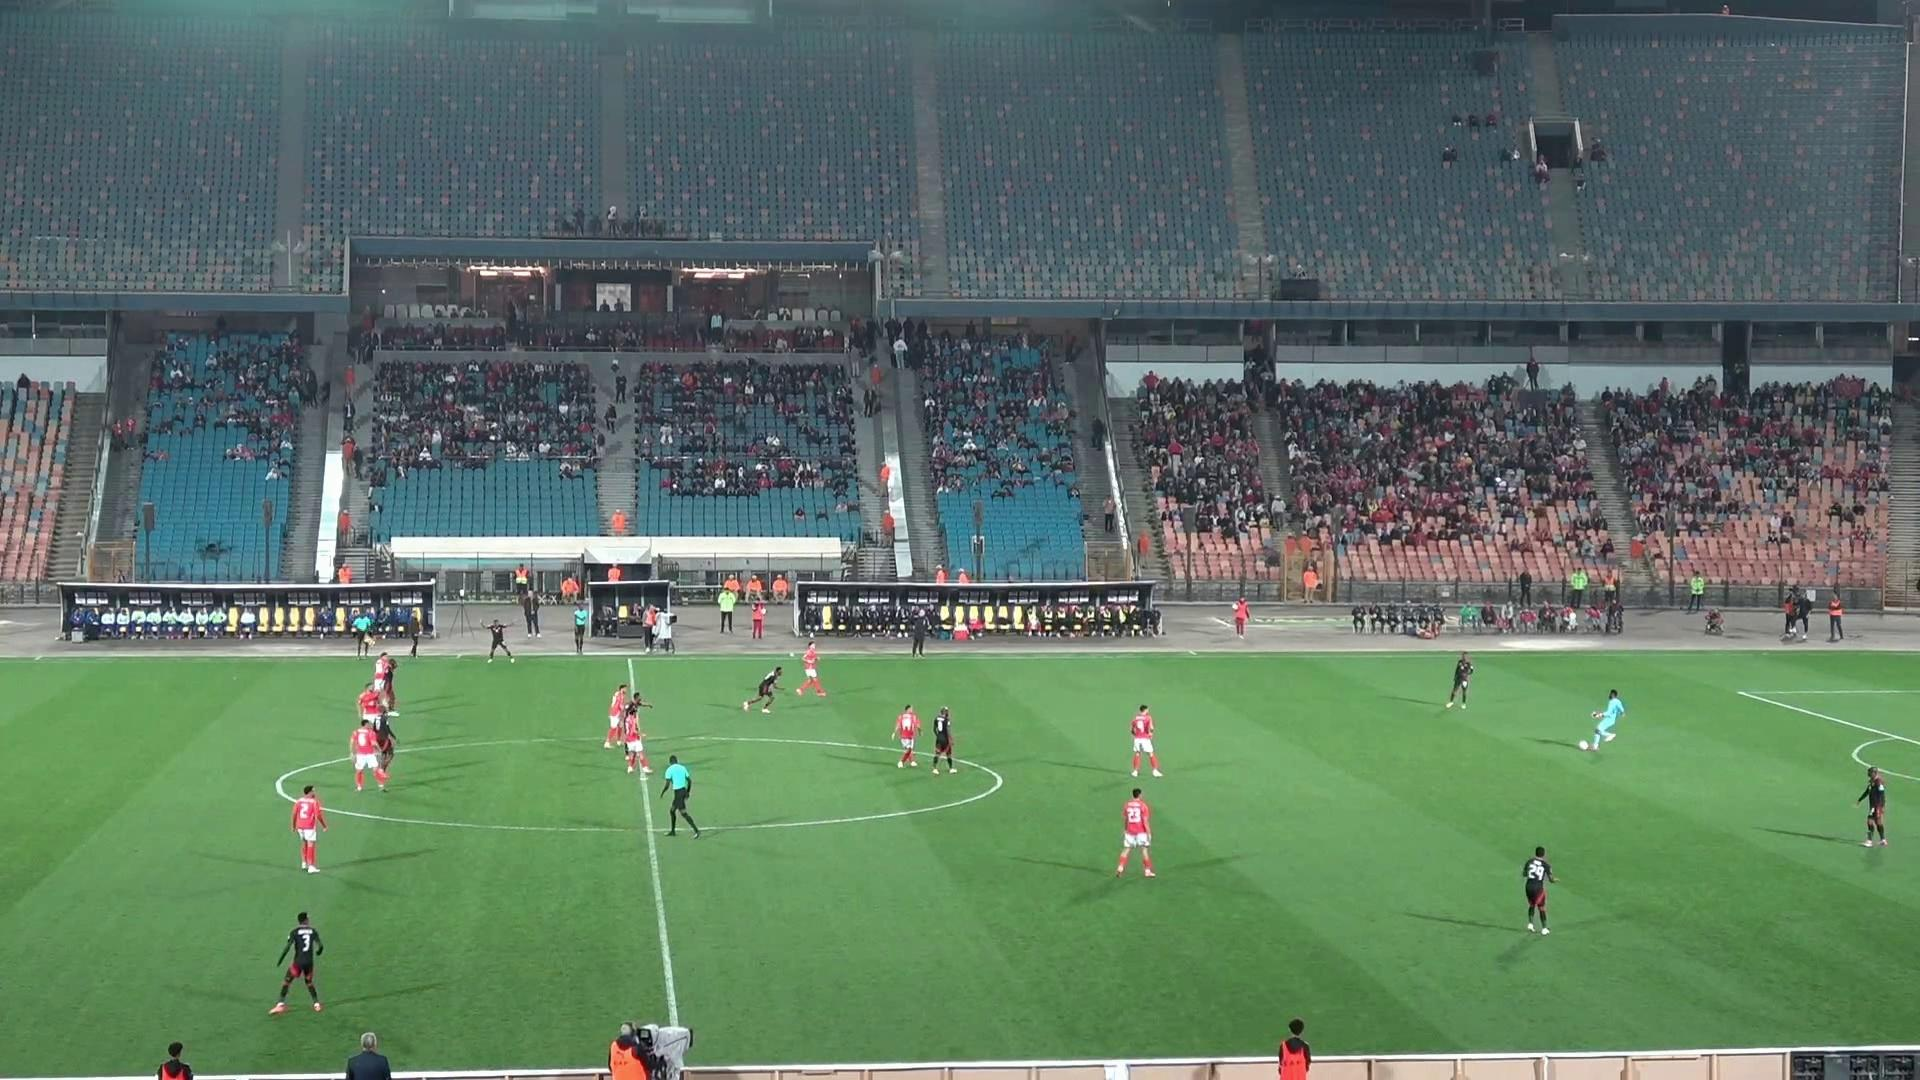Ball: (1577, 740, 1594, 750)
GK2: (1578, 688, 1626, 752)
Refree: (665, 754, 702, 836), (349, 611, 376, 655), (574, 601, 589, 654)
Team1: (1116, 789, 1154, 877), (291, 785, 326, 873), (351, 720, 386, 790), (1130, 705, 1162, 777), (624, 699, 650, 774), (891, 705, 920, 766), (603, 684, 628, 748), (796, 641, 825, 695), (371, 653, 396, 713), (357, 682, 382, 724)
Team2: (269, 913, 323, 1014), (1522, 847, 1553, 934), (1855, 766, 1884, 847), (372, 698, 397, 783), (742, 666, 782, 712), (1444, 651, 1473, 707), (932, 707, 956, 771), (488, 620, 513, 661), (625, 690, 651, 723)
